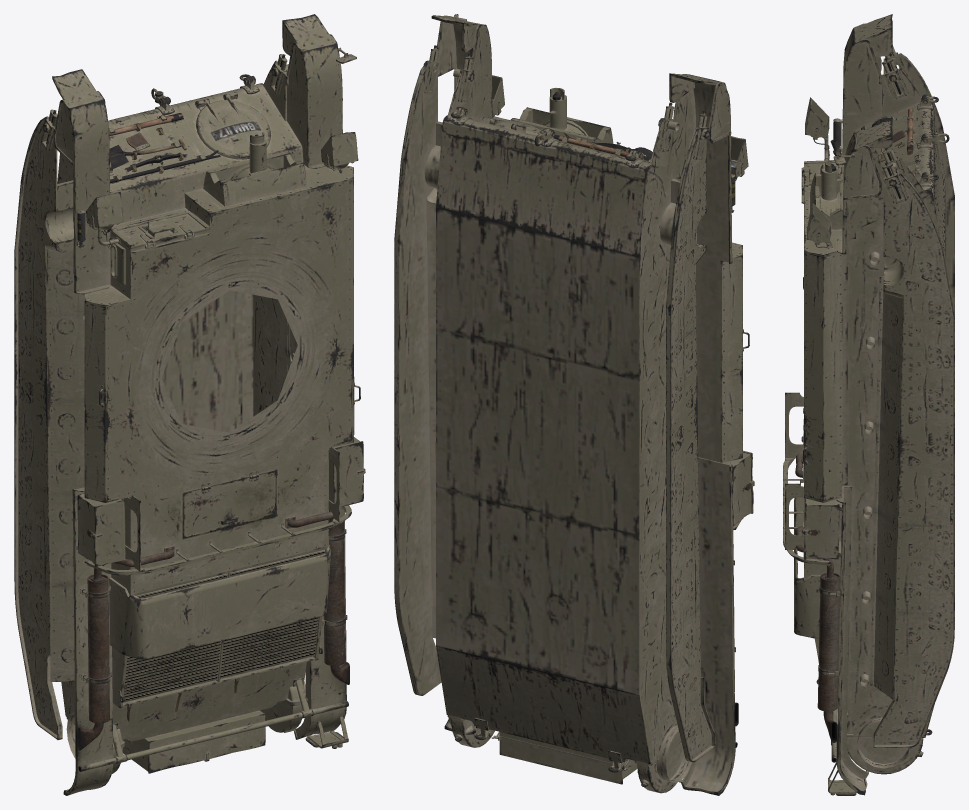
Rendered from Hull.glb.
3 renders of one model, left to right at view 1: azimuth 30°, elevation 25°; view 2: azimuth 150°, elevation 25°; view 3: azimuth 270°, elevation 25°, orthographic. The views are drawn at different scales.
Visible parts, largest first — view 1: set_0_group_0; view 2: set_0_group_0; view 3: set_0_group_0.
Part boxes in pixels (x1,y1,x2,y2): set_0_group_0: (14, 14, 365, 795); set_0_group_0: (394, 14, 754, 795); set_0_group_0: (783, 14, 954, 795).
Bounding box in the file's own units: 2.86 × 6.87 × 1.61.
1 material, 1 textured.
